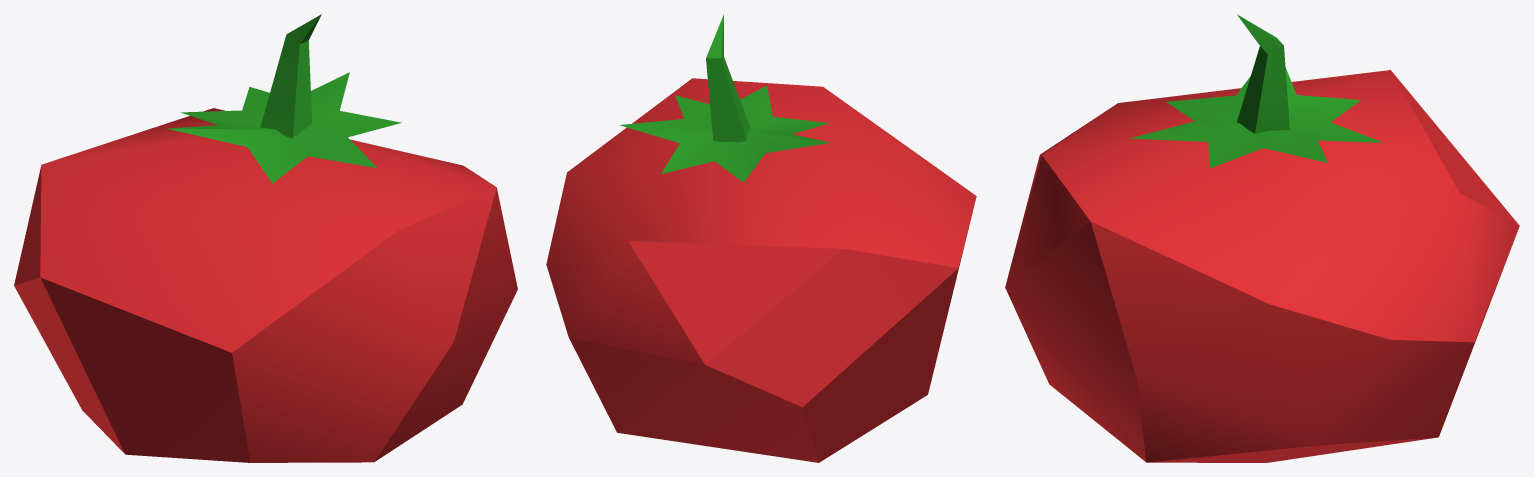
The model's file is Tomato.fbx.
3 views of the same model, side by side, from view 1: azimuth 30°, elevation 25°; view 2: azimuth 150°, elevation 25°; view 3: azimuth 270°, elevation 25° (orthographic). The views are drawn at different scales.
Visible parts, largest first — view 1: Tomato; view 2: Tomato; view 3: Tomato.
Boxes of the visible parts, bbox=[...] form: Tomato: bbox=[14, 14, 517, 462]; Tomato: bbox=[546, 14, 976, 462]; Tomato: bbox=[1005, 14, 1519, 462].
Bounding box in the file's own units: 44.99 × 44.99 × 44.99.
